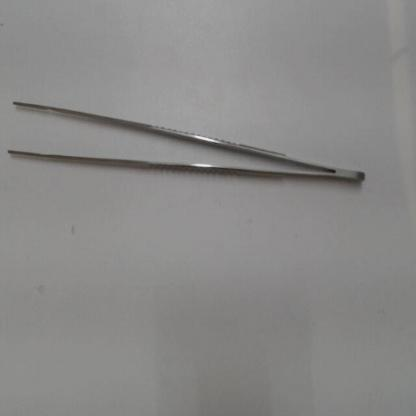DeBakey Dissector: (5, 80, 379, 204)
